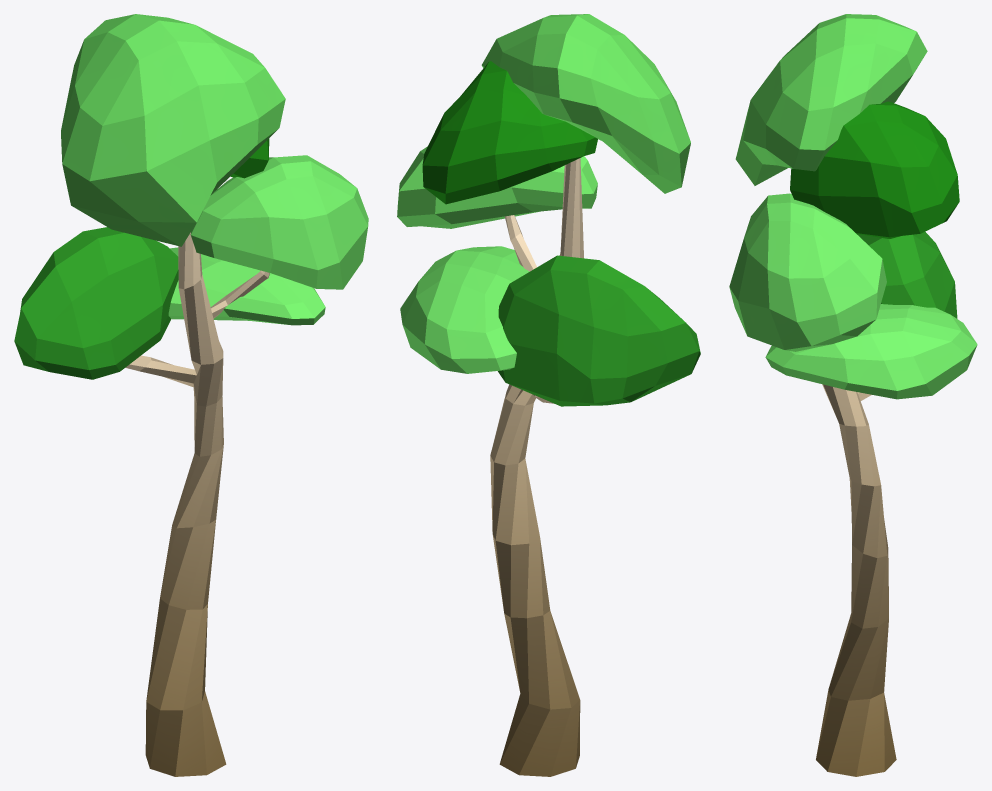
Rendered from Tree_Long2.fbx.
3 views of the same model, side by side, from view 1: azimuth 30°, elevation 25°; view 2: azimuth 150°, elevation 25°; view 3: azimuth 270°, elevation 25° (orthographic). The views are drawn at different scales.
Parts seen in each view (by area): view 1: Leaf_Top.002, Long_Tree2; view 2: Leaf_Top.002, Long_Tree2; view 3: Leaf_Top.002, Long_Tree2.
Part boxes in pixels (left/top/right/bottom): Leaf_Top.002: left=14, top=14, right=368, bottom=379; Long_Tree2: left=125, top=232, right=269, bottom=776; Leaf_Top.002: left=397, top=14, right=700, bottom=406; Long_Tree2: left=490, top=158, right=583, bottom=776; Leaf_Top.002: left=729, top=14, right=977, bottom=399; Long_Tree2: left=816, top=384, right=896, bottom=776.
Bounding box in the file's own units: 348 × 784 × 243.
